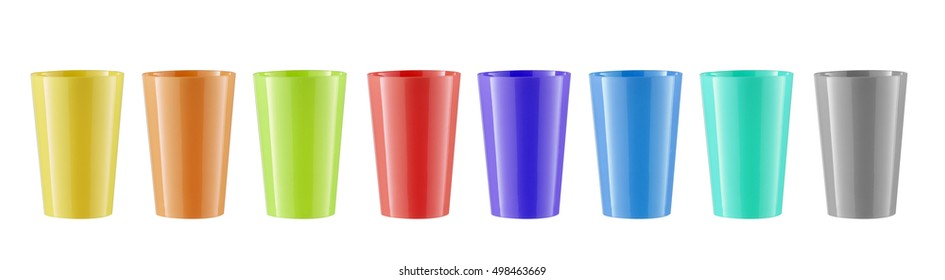plastic_bottle: (810, 58, 919, 228), (693, 63, 798, 229), (472, 57, 576, 219), (584, 63, 685, 222), (362, 66, 463, 222), (139, 68, 240, 220), (29, 68, 129, 221), (250, 68, 350, 220)
